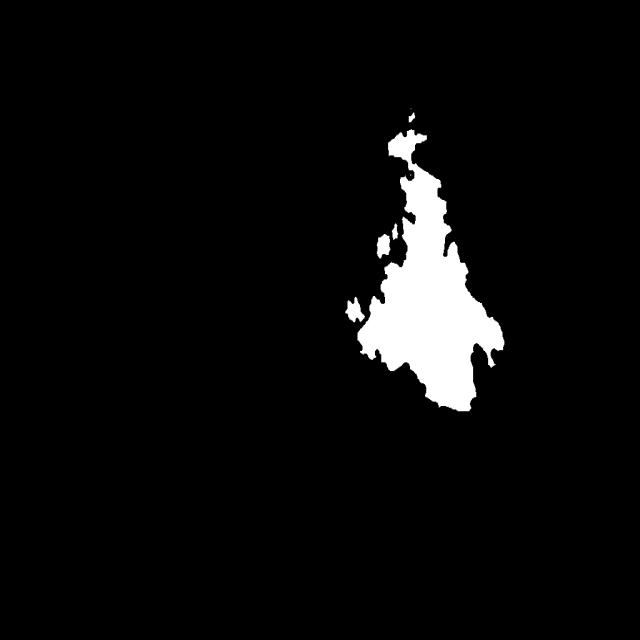fire: (253, 125, 550, 406)
